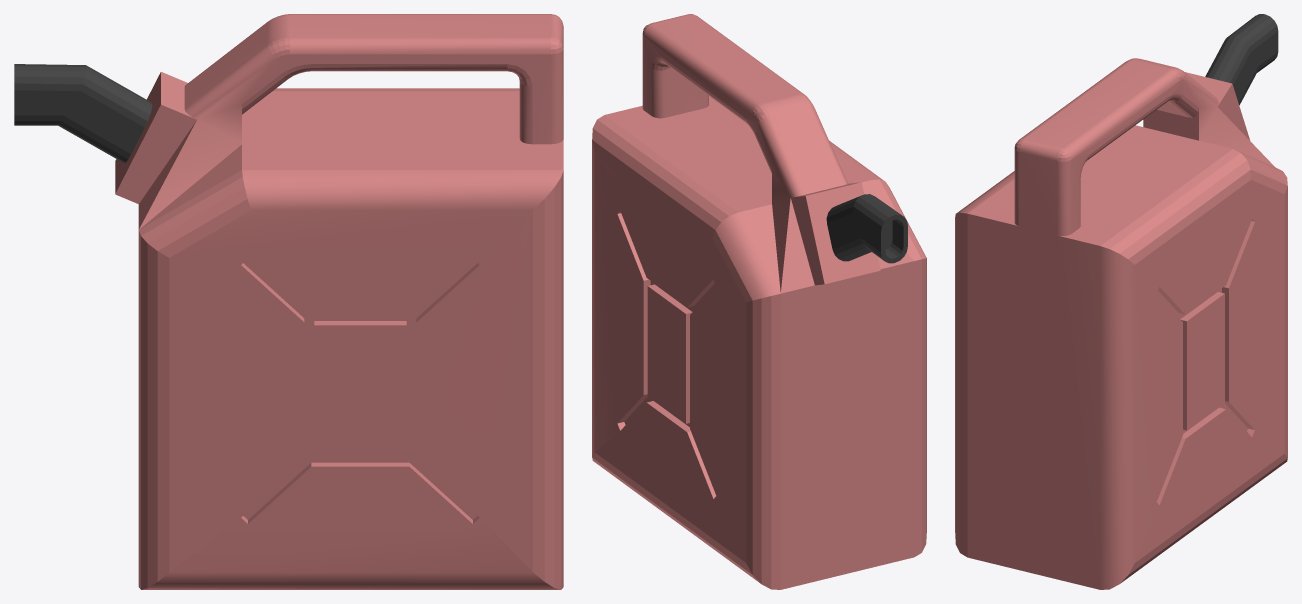
File: bidon.fbx
3 renders of one model, left to right at view 1: azimuth 30°, elevation 25°; view 2: azimuth 150°, elevation 25°; view 3: azimuth 270°, elevation 25°, orthographic. The views are drawn at different scales.
Parts seen in each view (by area): view 1: Object_88.001; view 2: Object_88.001; view 3: Object_88.001.
Boxes of the visible parts, bbox=[...] form: Object_88.001: bbox=[14, 14, 563, 589]; Object_88.001: bbox=[592, 14, 926, 589]; Object_88.001: bbox=[955, 14, 1287, 589].
Size of the model in its own units: 9.14 by 9.83 by 6.93.
